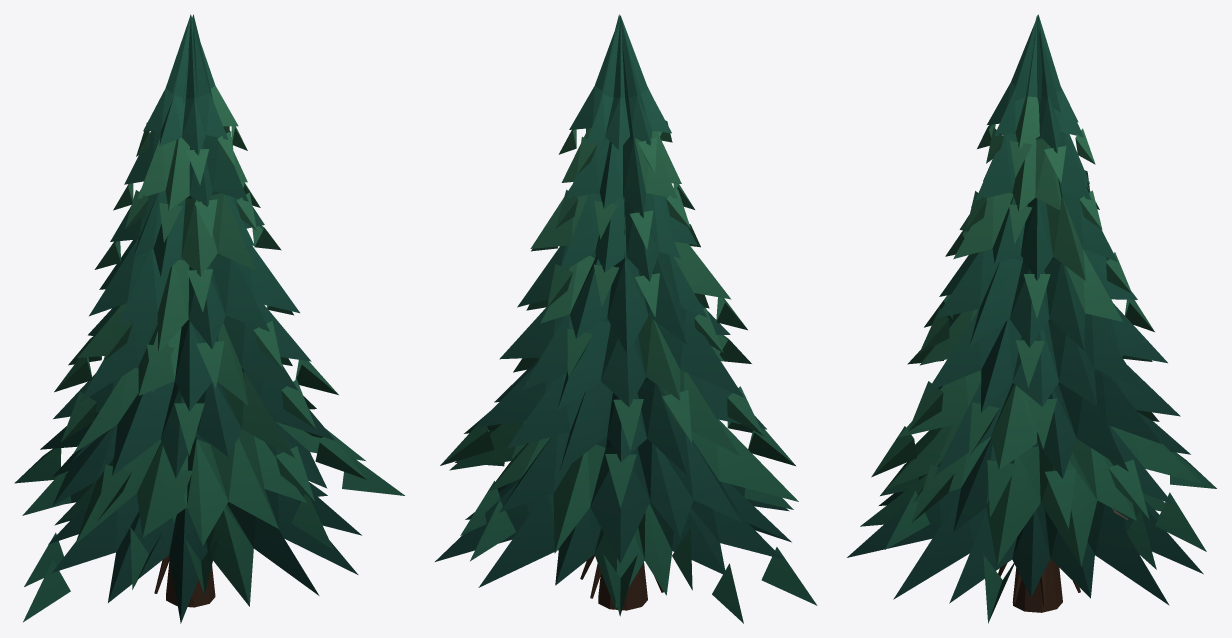
The model's file is Spruce_Young.fbx.
The picture shows the model from 3 angles, left to right: view 1: azimuth 30°, elevation 25°; view 2: azimuth 150°, elevation 25°; view 3: azimuth 270°, elevation 25°; orthographic projection.
Parts seen in each view (by area): view 1: Spruce_Young_LOD0; view 2: Spruce_Young_LOD0; view 3: Spruce_Young_LOD0.
Part boxes in pixels (left/top/right/bottom): Spruce_Young_LOD0: left=14, top=14, right=404, bottom=623; Spruce_Young_LOD0: left=435, top=14, right=817, bottom=623; Spruce_Young_LOD0: left=847, top=14, right=1216, bottom=623.
Size of what is drawn, in the model's own units: 4.02 by 6 by 3.43.
Materials: 1 (1 with a texture image).
